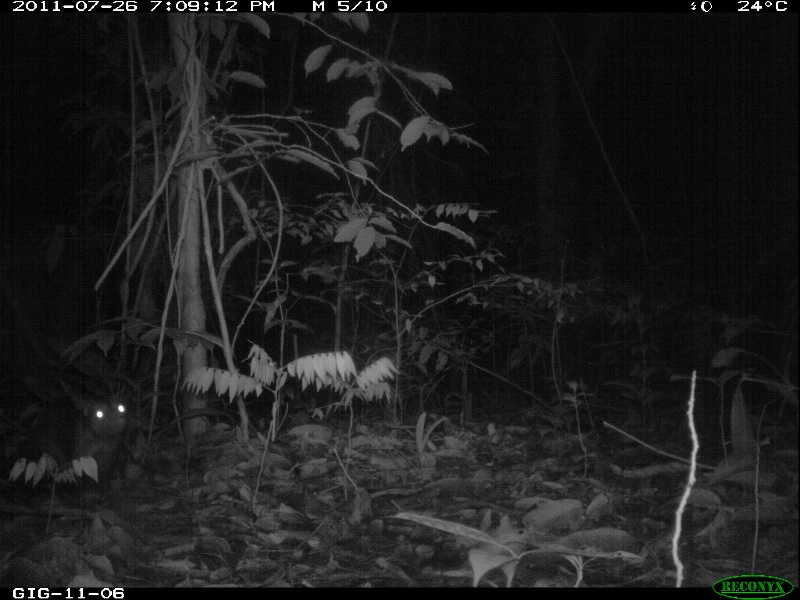opossum: (12, 373, 148, 484)
